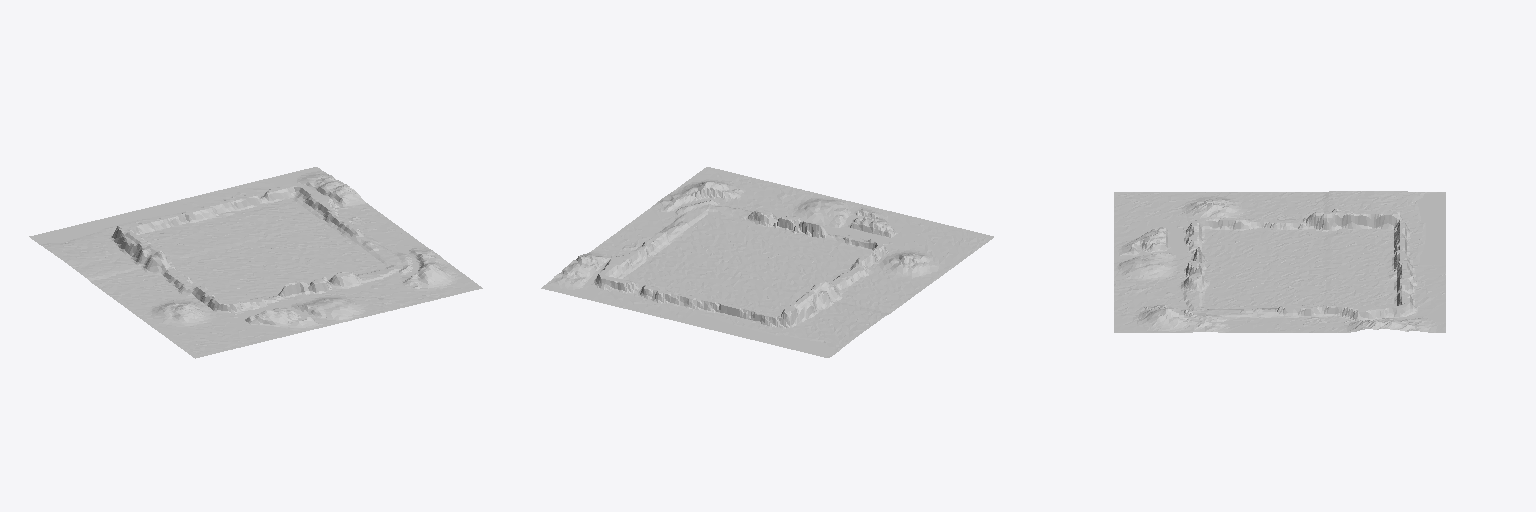
File: Beach.obj
The picture shows the model from 3 angles: view 1: azimuth 30°, elevation 25°; view 2: azimuth 150°, elevation 25°; view 3: azimuth 270°, elevation 25°; orthographic projection.
Parts seen in each view (by area): view 1: 1.011; view 2: 1.011; view 3: 1.011.
Part boxes in pixels (x1,y1,x2,y2): 1.011: (29,167,482,358); 1.011: (541,167,993,357); 1.011: (1114,191,1445,332).
Size of the model in its own units: 500 by 22.45 by 500.